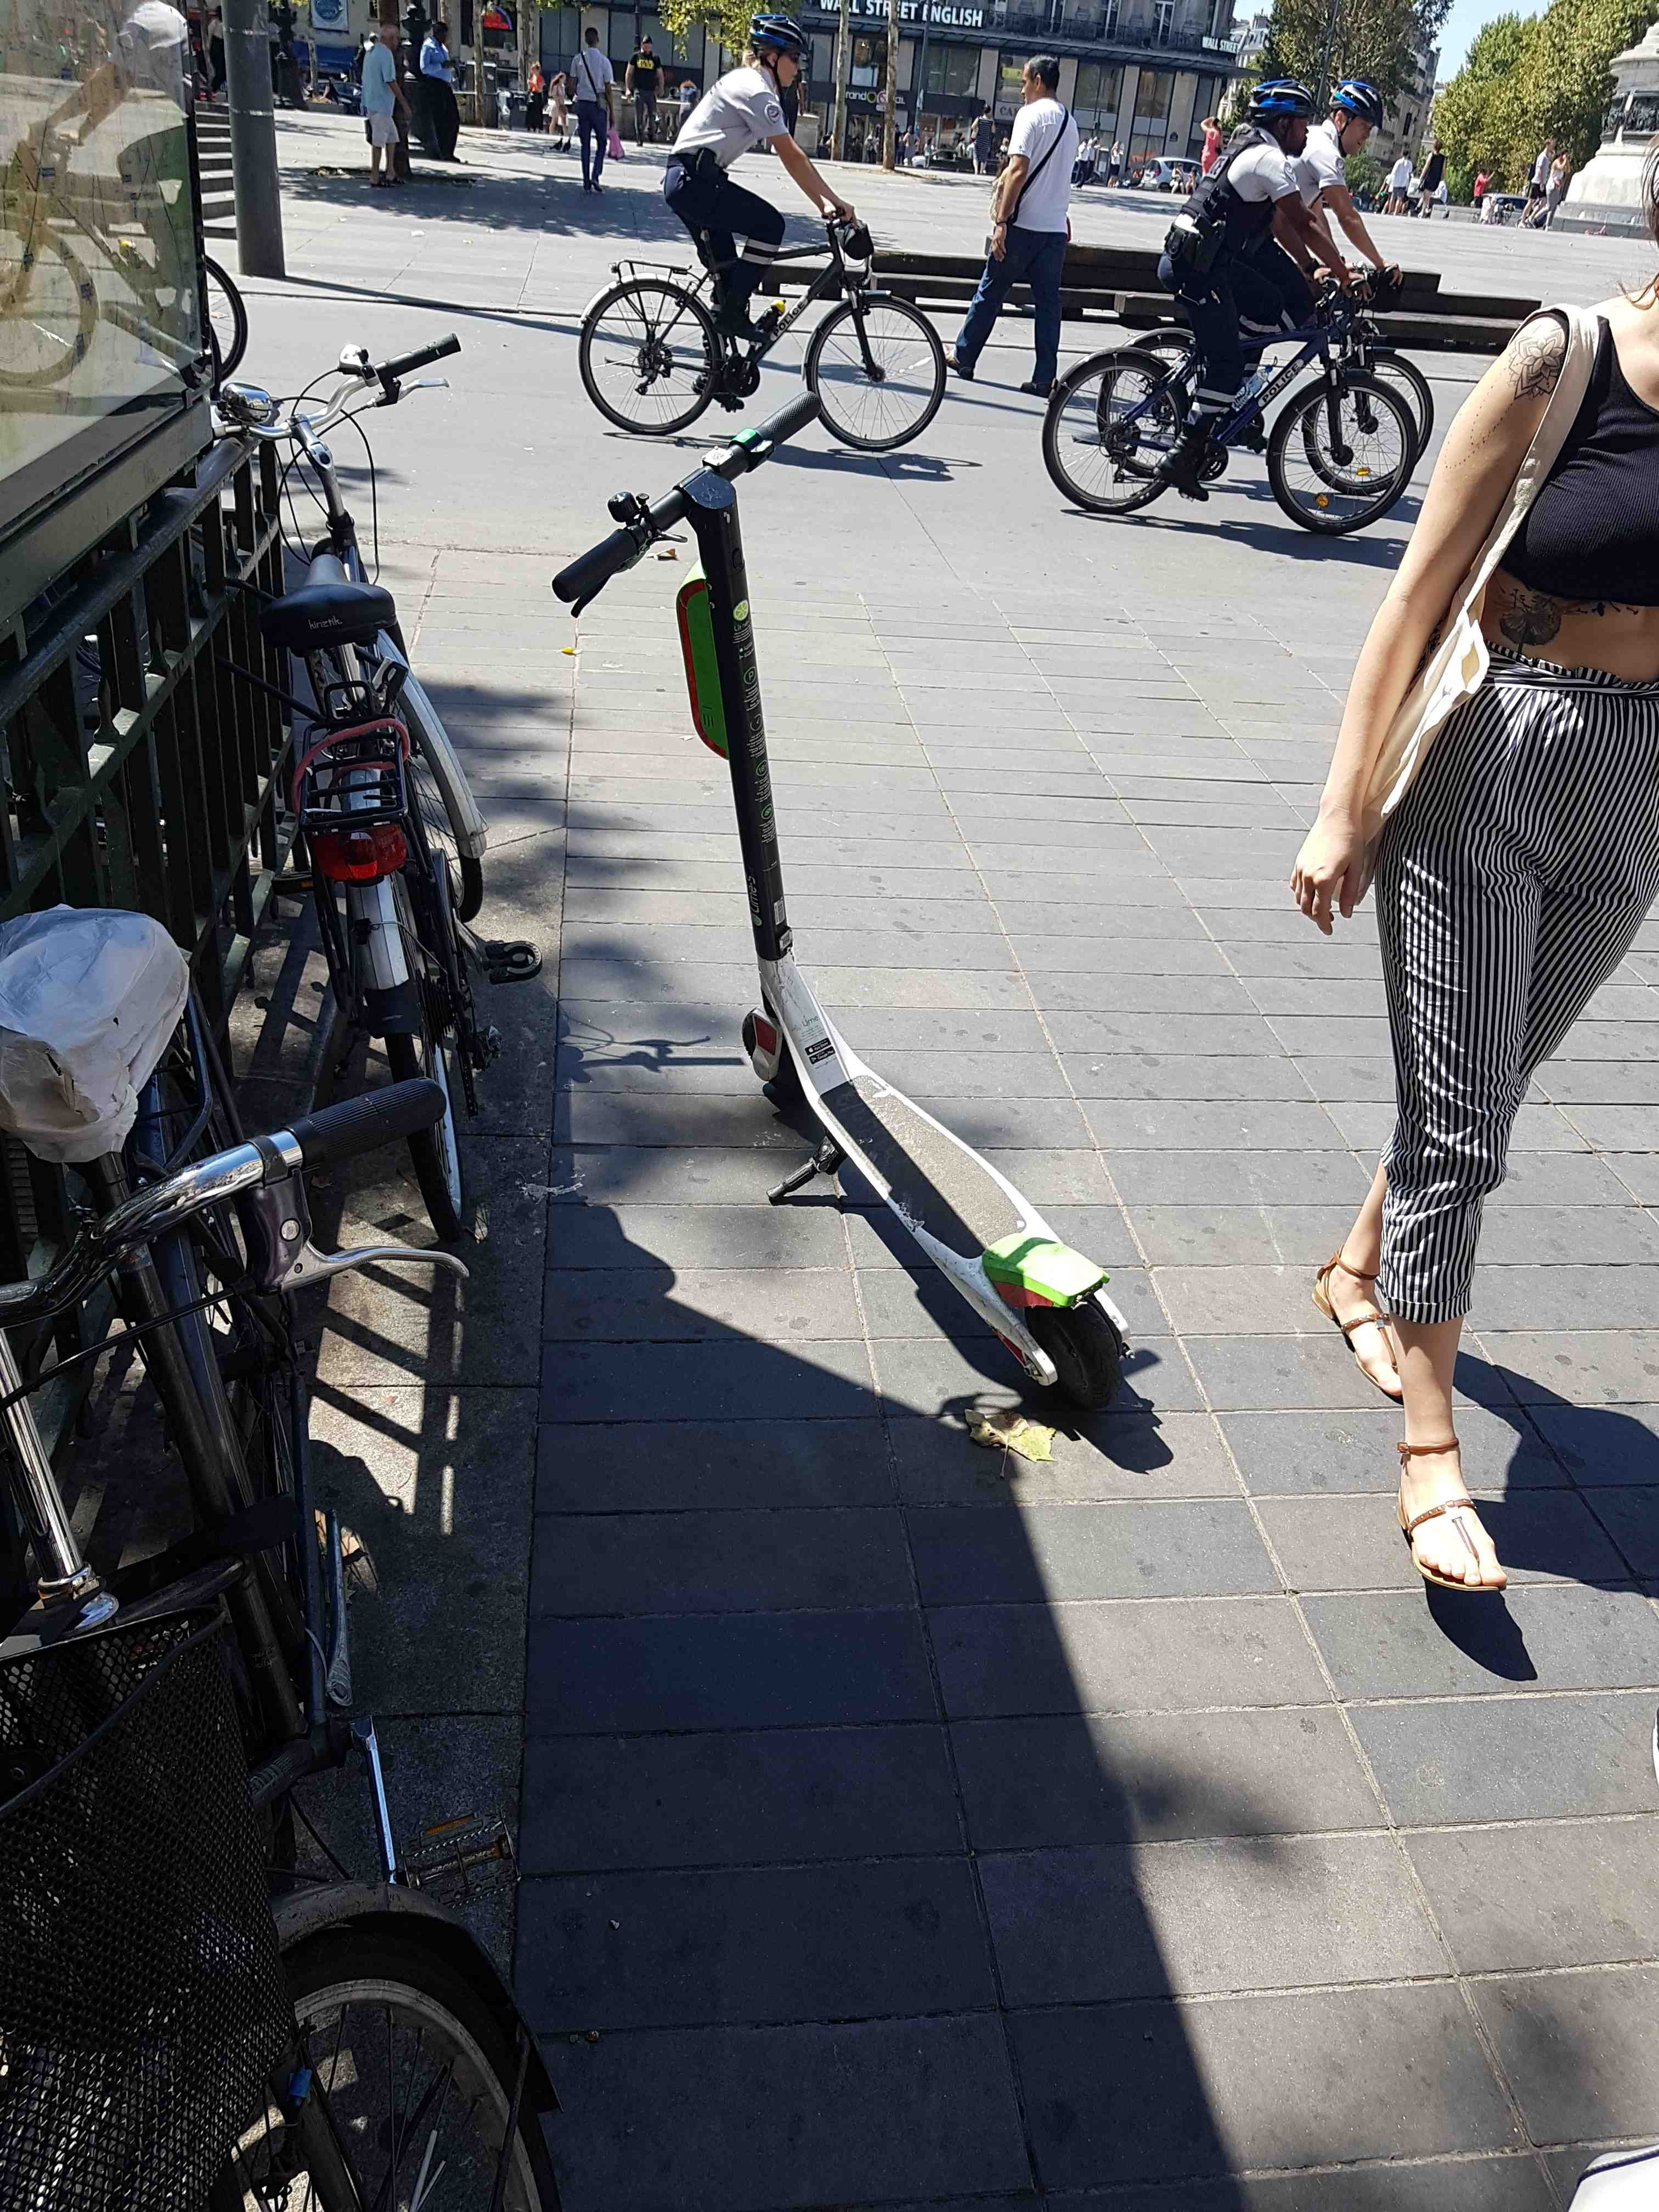scooter: (532, 305, 1192, 1472)
